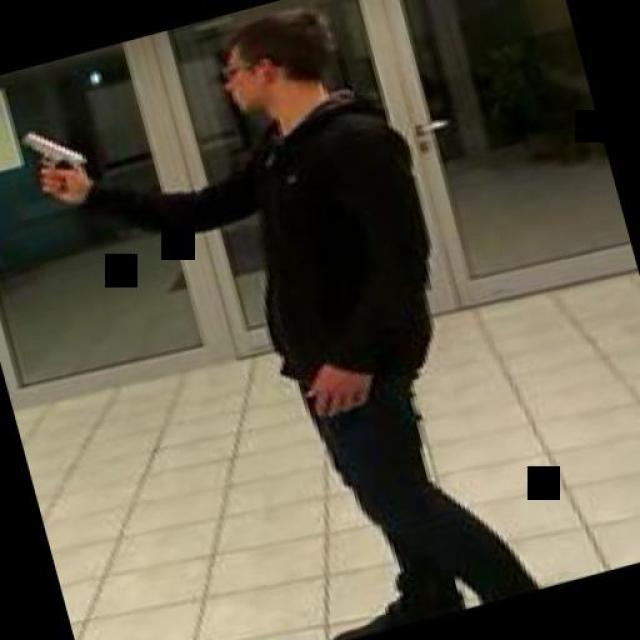gun: (12, 114, 98, 204)
